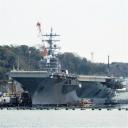Portanaves: (9, 25, 123, 109)
